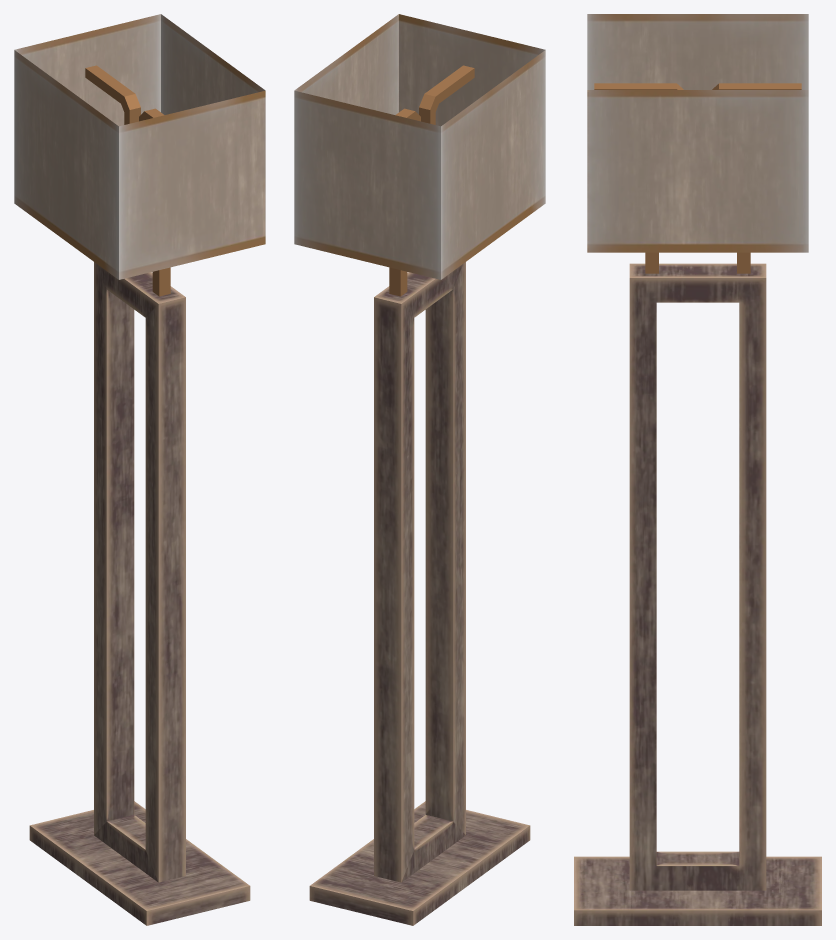
The model's file is lighting01.glb.
3 renders of one model, left to right at view 1: azimuth 30°, elevation 25°; view 2: azimuth 150°, elevation 25°; view 3: azimuth 270°, elevation 25°, orthographic. The views are drawn at different scales.
Visible parts, largest first — view 1: lighting01; view 2: lighting01; view 3: lighting01.
Boxes of the visible parts, box(x1,y1,x2,y2) form: lighting01: box(14, 14, 265, 925); lighting01: box(294, 14, 545, 925); lighting01: box(574, 14, 821, 925).
Bounding box in the file's own units: 0.3083 × 1.61 × 0.426.
1 material, 1 textured.
